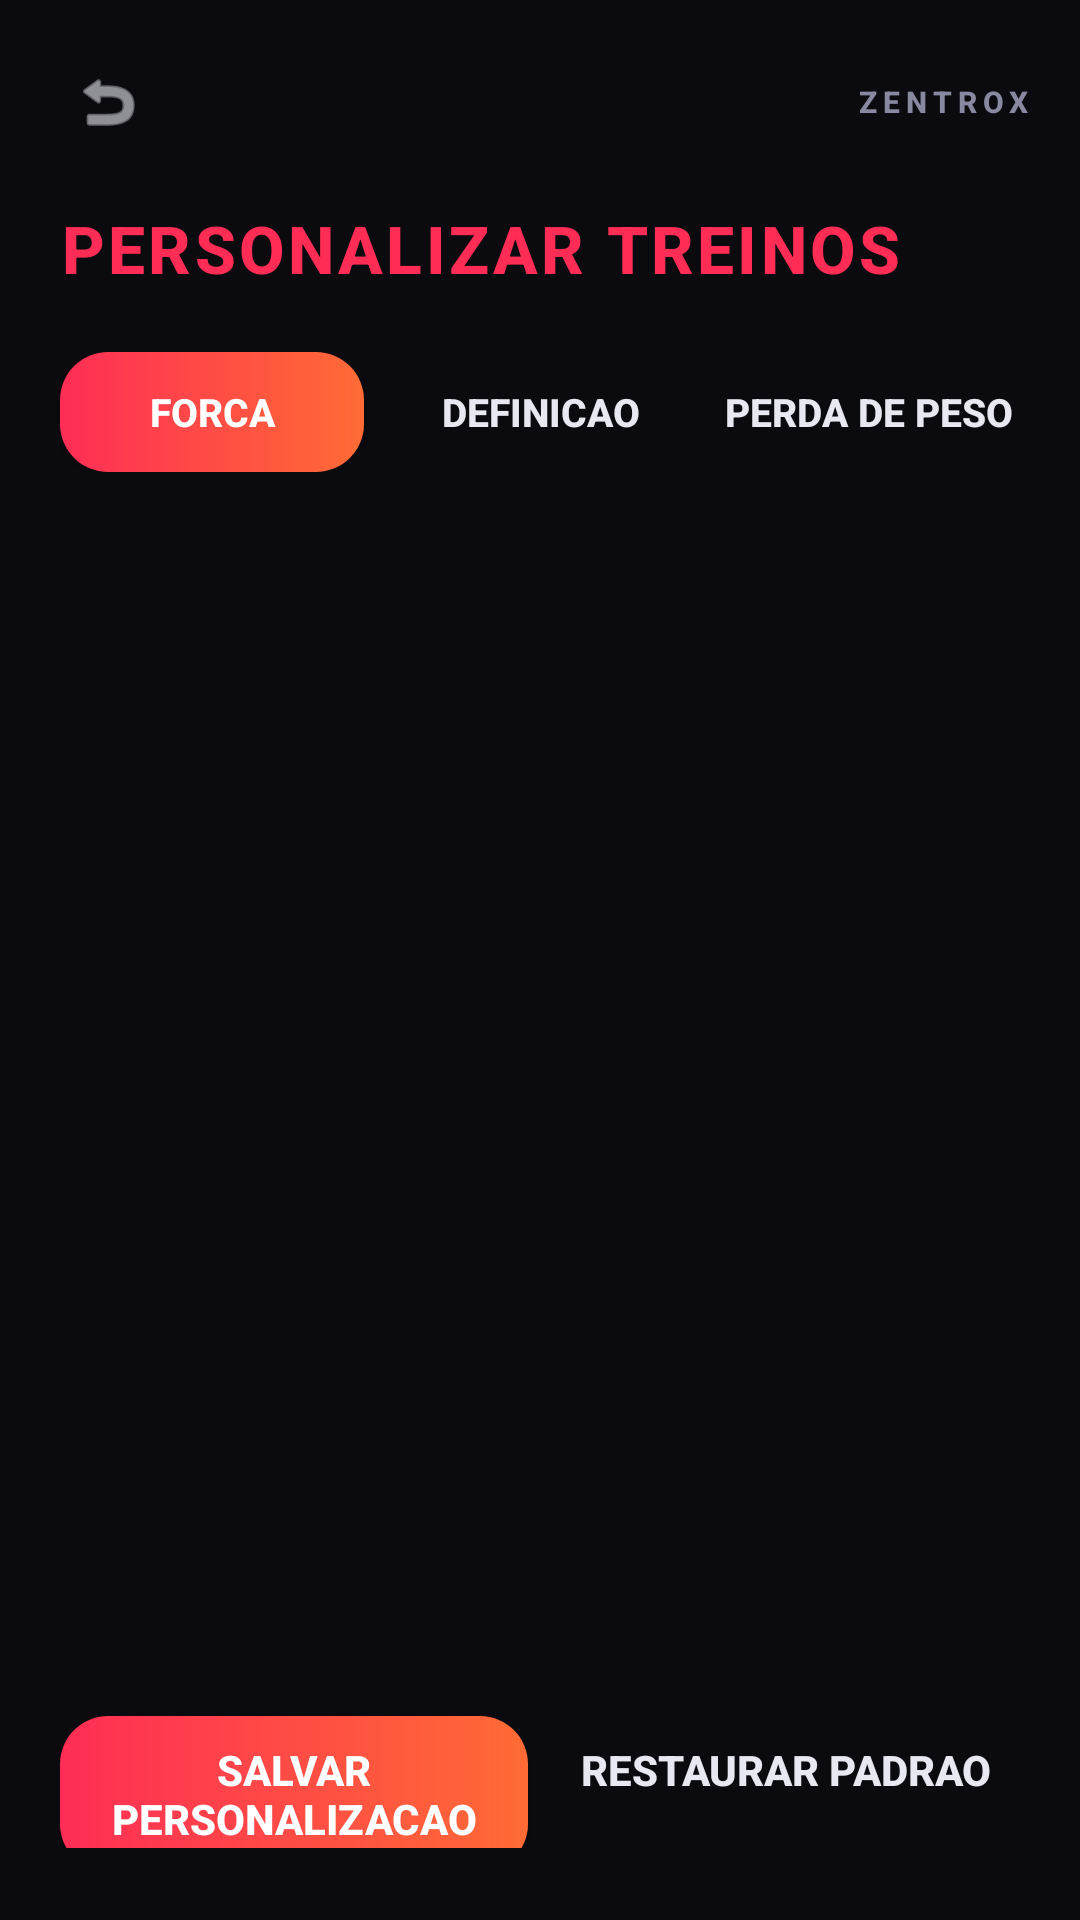

Locate icon controls on the screen. Image size 1080 × 1920, boxes as (x1, y1, x2, y2).
Voltar: (83, 79, 135, 126)
